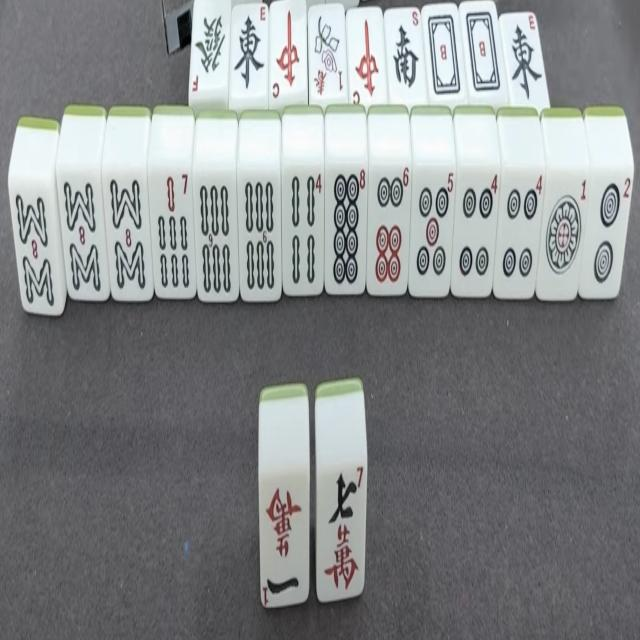bai: (464, 6, 501, 104), (426, 12, 464, 103)
east: (505, 14, 548, 108), (230, 5, 270, 101)
fa: (193, 4, 228, 95)
ff1: (308, 9, 345, 100)
m1: (262, 471, 311, 605)
m7: (319, 461, 369, 602)
s4: (282, 167, 324, 293)
s6: (195, 173, 238, 299), (236, 173, 278, 298)
s7: (151, 171, 194, 297)
s8: (5, 177, 59, 314), (58, 172, 107, 299), (107, 170, 153, 298)
south: (387, 10, 425, 102)
t1: (540, 170, 582, 300)
t2: (579, 170, 634, 297)
t4: (496, 172, 546, 296), (452, 172, 497, 294)
t5: (412, 167, 455, 293)
t6: (372, 159, 408, 300)
t8: (326, 160, 366, 294)
zhong: (271, 1, 308, 106), (350, 14, 388, 107)
